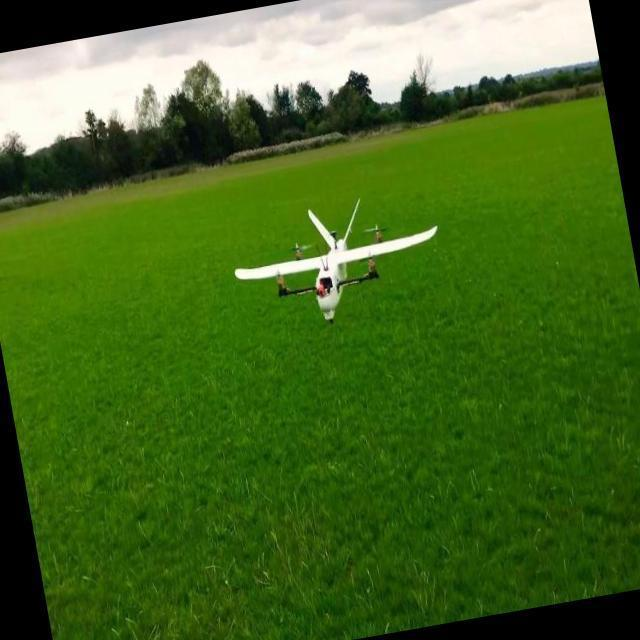iha: (230, 192, 450, 350)
